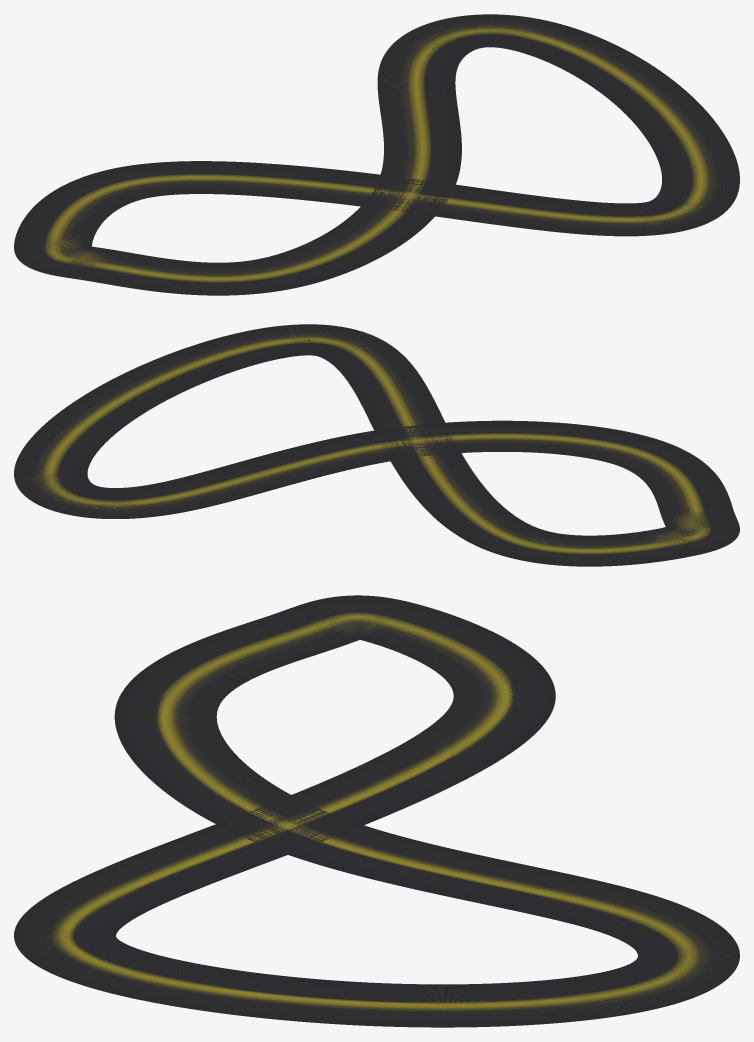
3 views of the same model, one above another, from view 1: azimuth 30°, elevation 25°; view 2: azimuth 150°, elevation 25°; view 3: azimuth 270°, elevation 25° (orthographic). The views are drawn at different scales.
Parts seen in each view (by area): view 1: road; view 2: road; view 3: road.
Part boxes in pixels (bbox=[...]): road: bbox=[14, 14, 739, 295]; road: bbox=[14, 324, 739, 566]; road: bbox=[14, 595, 739, 1027].
Size of the model in its own units: 1.8 by 0 by 1.28.
1 material, 1 textured.
